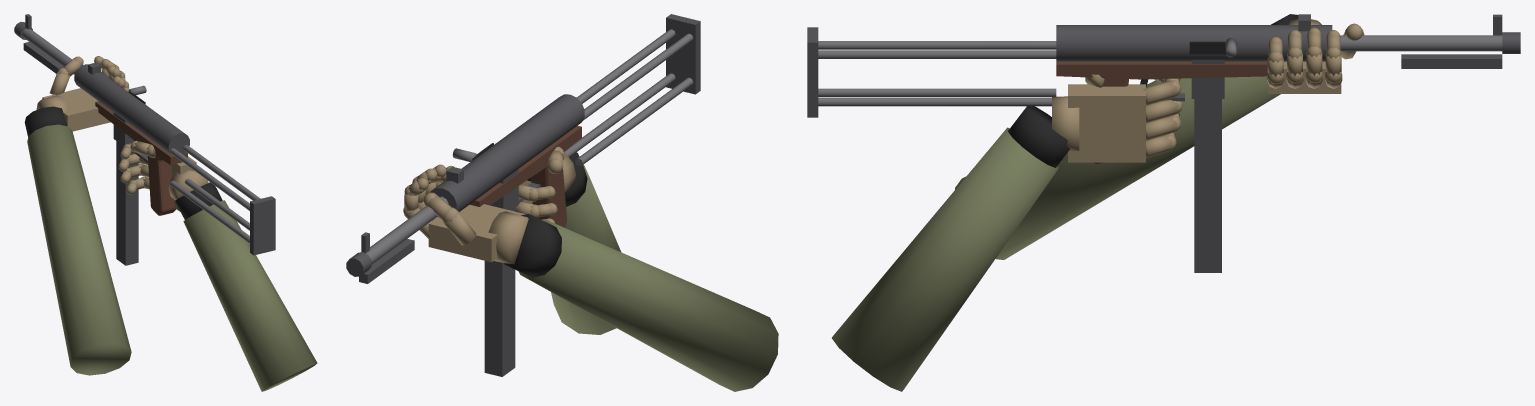
3 views of the same model, side by side, from view 1: azimuth 30°, elevation 25°; view 2: azimuth 150°, elevation 25°; view 3: azimuth 270°, elevation 25° (orthographic). The views are drawn at different scales.
Parts seen in each view (by area): view 1: MP40_HandLeft, MP40_HandRight, MP40_Body, MP40_Mag; view 2: MP40_HandLeft, MP40_Body, MP40_HandRight, MP40_Mag; view 3: MP40_HandRight, MP40_Body, MP40_HandLeft, MP40_Mag.
Part boxes in pixels (<box>): MP40_HandLeft: <box>24,56,131,375</box>; MP40_HandRight: <box>118,140,317,391</box>; MP40_Body: <box>14,14,275,255</box>; MP40_Mag: <box>116,141,138,265</box>; MP40_HandLeft: <box>403,164,778,391</box>; MP40_Body: <box>346,14,700,283</box>; MP40_HandRight: <box>515,146,620,334</box>; MP40_Mag: <box>484,208,515,376</box>; MP40_HandRight: <box>832,74,1182,391</box>; MP40_Body: <box>807,14,1520,163</box>; MP40_HandLeft: <box>955,14,1364,259</box>; MP40_Mag: <box>1194,99,1221,272</box>.
Bounding box in the file's own units: 0.3718 × 0.4085 × 0.776.
